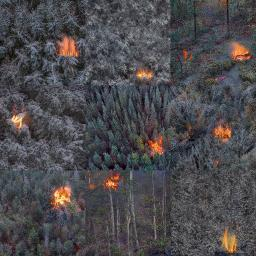Small fire: (33, 166, 134, 218), (39, 21, 97, 75), (0, 94, 46, 143), (203, 108, 243, 155), (211, 219, 251, 255), (140, 125, 173, 168), (222, 35, 256, 71), (129, 58, 160, 90)
